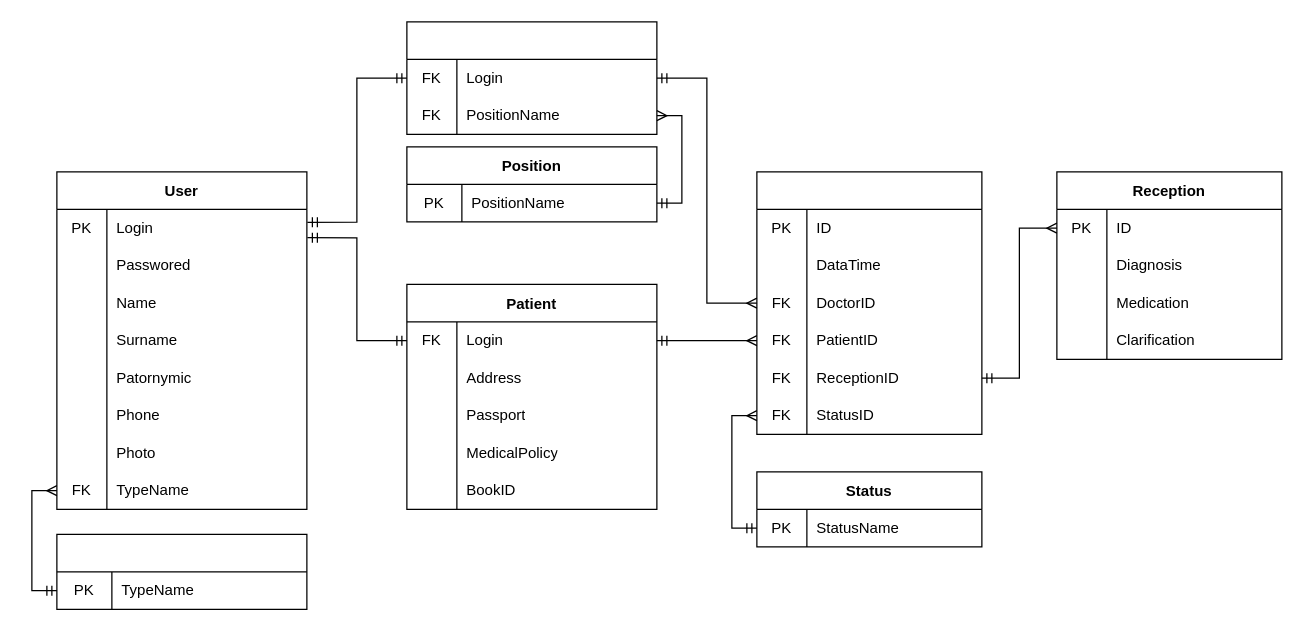
Image size: 1304x631. Some labels were removed from this diagram. The box of each missing label's shape, as (x1, y1, x2, y2) in pixels:
Employee: (406, 21, 657, 134)
Recording: (756, 171, 982, 434)
UserType: (56, 533, 307, 609)
